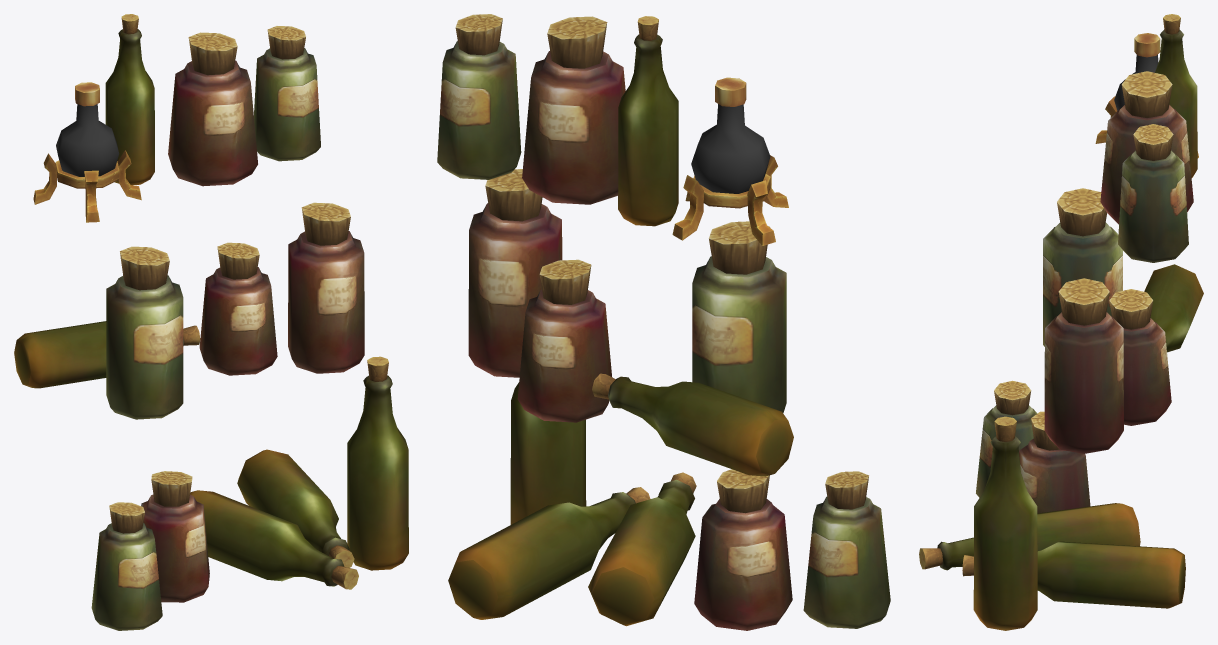
File: Cupboard_Preset_09.FBX
The picture shows the model from 3 angles, left to right: view 1: azimuth 30°, elevation 25°; view 2: azimuth 150°, elevation 25°; view 3: azimuth 270°, elevation 25°; orthographic projection. The views are drawn at different scales.
Parts seen in each view (by area): view 1: Cupboard_Preset_09; view 2: Cupboard_Preset_09; view 3: Cupboard_Preset_09.
Boxes of the visible parts, x1,y1,x2,y2 form: Cupboard_Preset_09: (14,14,408,630); Cupboard_Preset_09: (437,14,890,630); Cupboard_Preset_09: (919,14,1203,630).
Bounding box in the file's own units: 105 × 84.42 × 171.
